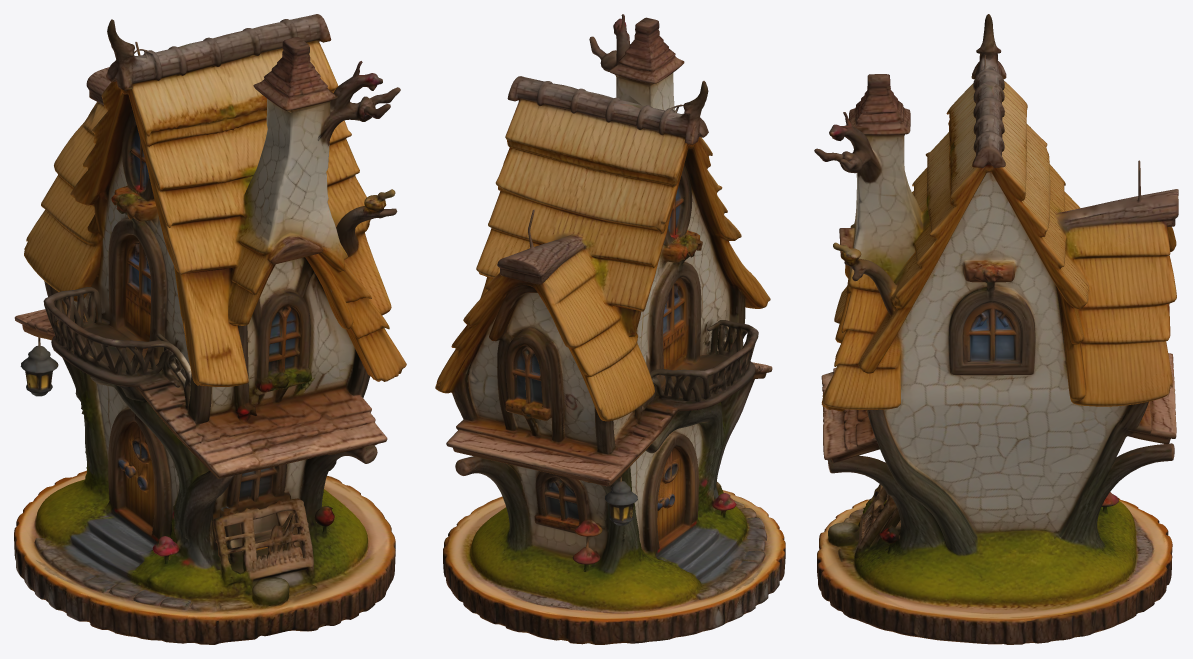
The model's file is fairy-house.glb.
The picture shows the model from 3 angles, left to right: view 1: azimuth 30°, elevation 25°; view 2: azimuth 150°, elevation 25°; view 3: azimuth 270°, elevation 25°; orthographic projection. The views are drawn at different scales.
Visible parts, largest first — view 1: material; view 2: material; view 3: material.
Part boxes in pixels (x1,y1,x2,y2): material: (14,14,406,644); material: (435,14,785,644); material: (814,14,1178,644).
Bounding box in the file's own units: 0.6026 × 1.01 × 0.6455.
Materials: 1 (1 with a texture image).
